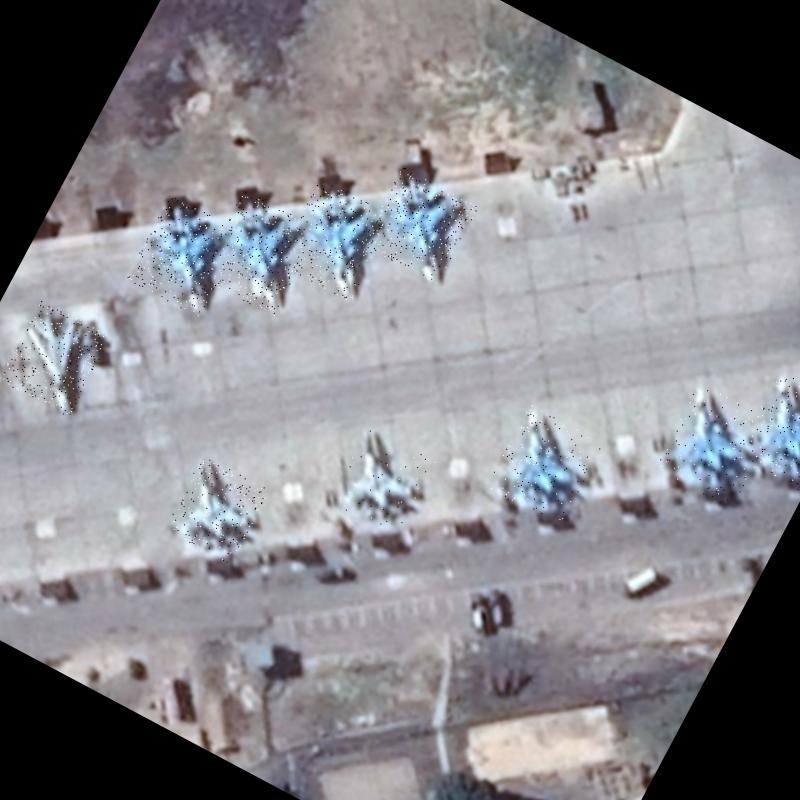A1: (328, 426, 436, 538), (162, 454, 270, 564)
A19: (652, 380, 777, 510), (197, 188, 321, 317), (274, 177, 395, 302), (485, 404, 604, 528), (125, 194, 243, 318), (361, 166, 478, 284), (733, 369, 800, 494)
A20: (0, 298, 111, 417)
